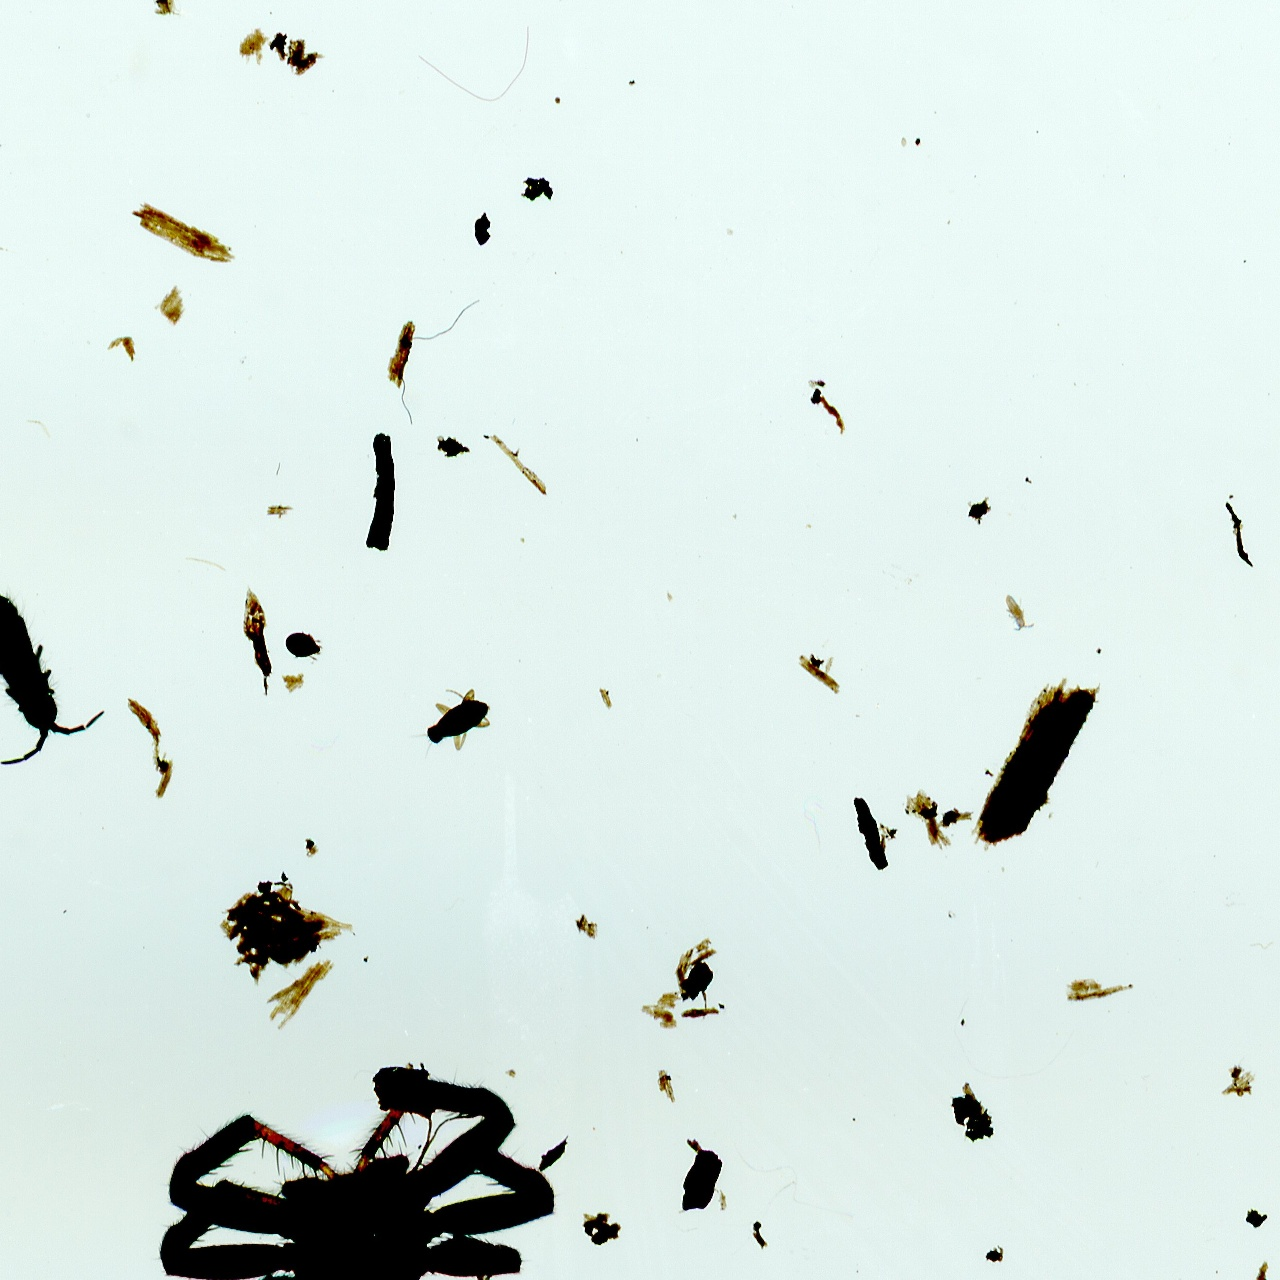arthropod: (113, 1020, 607, 1280), (0, 503, 114, 778), (388, 668, 508, 778), (995, 586, 1040, 640), (282, 628, 324, 665), (479, 696, 488, 701)
